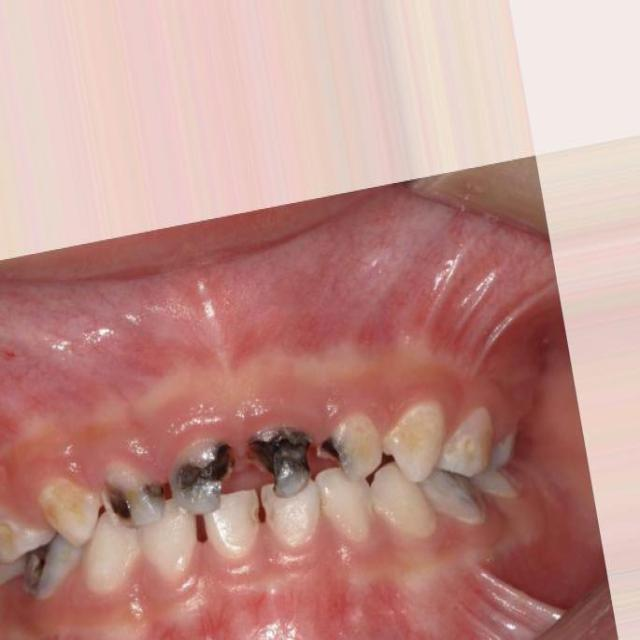caries: (170, 430, 242, 516), (98, 455, 170, 532), (249, 416, 313, 502), (318, 410, 383, 487), (16, 530, 75, 610)
